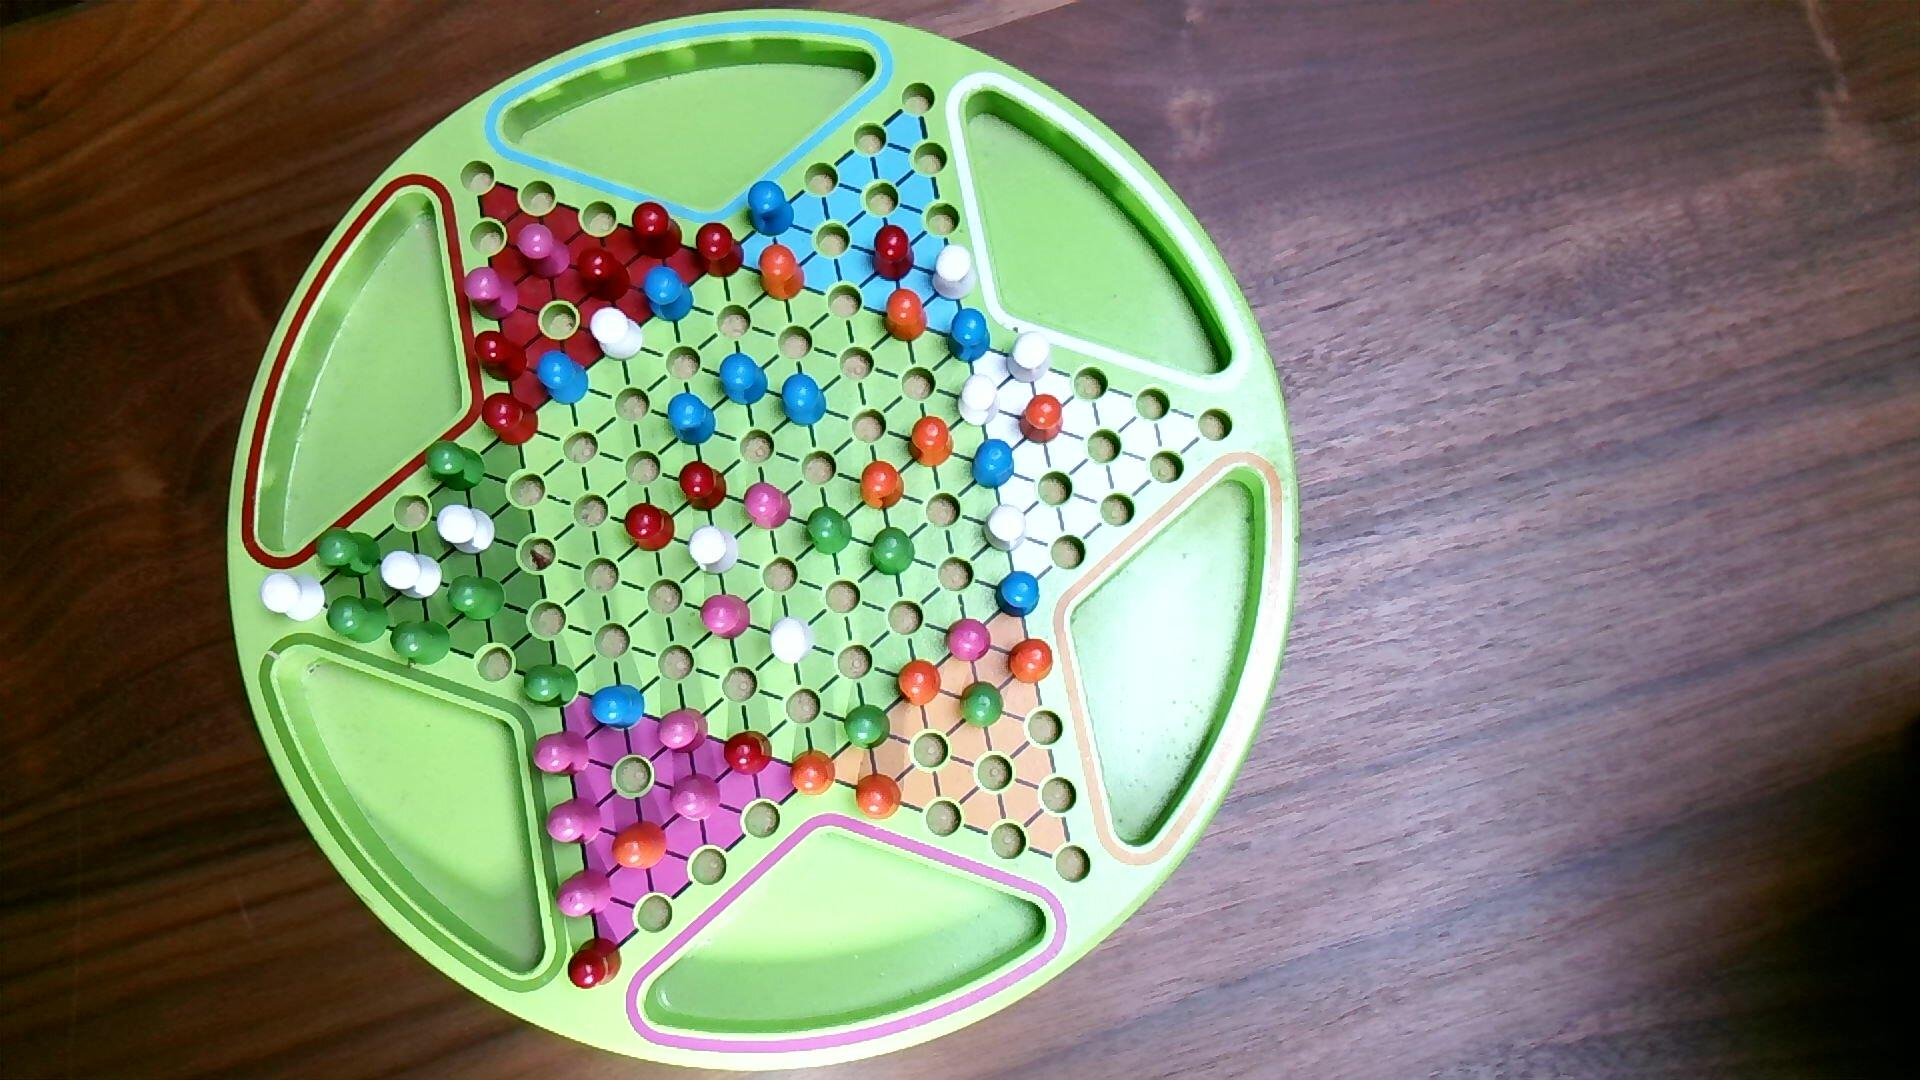B: (641, 264, 696, 324), (534, 349, 591, 407), (717, 352, 771, 409), (665, 390, 717, 448), (745, 179, 796, 239), (588, 683, 647, 732), (781, 371, 829, 430), (945, 306, 993, 367), (971, 438, 1017, 491), (994, 570, 1042, 620)
G: (313, 525, 384, 582), (422, 439, 488, 495), (324, 593, 392, 646), (389, 618, 454, 669), (447, 574, 508, 624), (522, 663, 582, 711), (803, 506, 855, 558), (841, 703, 893, 753), (959, 680, 1006, 732), (869, 526, 916, 578)
O: (611, 820, 670, 873), (758, 243, 807, 305), (880, 286, 930, 345), (907, 415, 956, 469), (858, 460, 907, 513), (1018, 392, 1065, 446), (1006, 637, 1056, 687), (855, 771, 905, 822), (789, 750, 837, 799), (895, 659, 943, 709)
R: (479, 392, 541, 448), (576, 247, 634, 303), (566, 936, 624, 992), (630, 202, 684, 261), (473, 328, 530, 384), (694, 222, 746, 280), (676, 460, 729, 514), (870, 223, 916, 284), (624, 502, 676, 554), (723, 731, 775, 778)
R2: (462, 265, 521, 323), (514, 222, 572, 281), (553, 866, 615, 919), (530, 729, 592, 779), (545, 796, 603, 848), (669, 771, 723, 825), (655, 705, 711, 756), (699, 593, 753, 642), (742, 481, 794, 531), (943, 617, 993, 665)
W: (260, 572, 328, 624), (378, 549, 444, 601), (588, 305, 646, 364), (436, 502, 498, 556), (930, 243, 980, 305), (687, 524, 741, 578), (1005, 328, 1054, 386), (956, 372, 1002, 429), (981, 502, 1030, 555), (769, 615, 816, 669)
